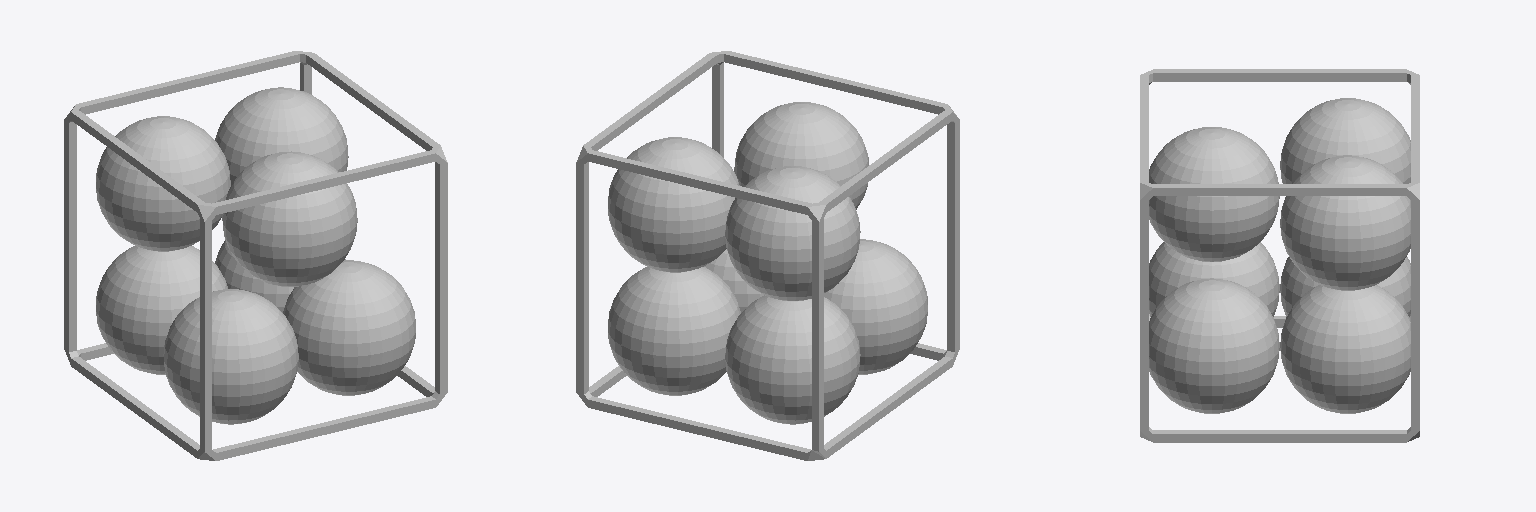
Rendered from stage_6.obj.
3 views of the same model, side by side, from view 1: azimuth 30°, elevation 25°; view 2: azimuth 150°, elevation 25°; view 3: azimuth 270°, elevation 25° (orthographic).
Visible parts, largest first — view 1: Cube_Cube.002, Sphere.005_Sphere.007, Sphere.004_Sphere.006, Sphere.006_Sphere.008, Sphere.002_Sphere.003, Sphere, Sphere.003_Sphere.004, Sphere.001; view 2: Cube_Cube.002, Sphere.001, Sphere, Sphere.003_Sphere.004, Sphere.002_Sphere.003, Sphere.004_Sphere.006, Sphere.006_Sphere.008, Sphere.005_Sphere.007; view 3: Cube_Cube.002, Sphere.005_Sphere.007, Sphere.001, Sphere.003_Sphere.004, Sphere.006_Sphere.008, Sphere.002_Sphere.003, Sphere.004_Sphere.006, Sphere.
Part boxes in pixels (bbox=[...]): Cube_Cube.002: bbox=[64, 51, 447, 460]; Sphere.005_Sphere.007: bbox=[283, 260, 415, 395]; Sphere.004_Sphere.006: bbox=[163, 289, 298, 424]; Sphere.006_Sphere.008: bbox=[222, 151, 357, 286]; Sphere.002_Sphere.003: bbox=[96, 116, 230, 251]; Sphere: bbox=[96, 246, 227, 374]; Sphere.003_Sphere.004: bbox=[215, 87, 348, 184]; Sphere.001: bbox=[215, 240, 345, 312]; Cube_Cube.002: bbox=[576, 51, 959, 460]; Sphere.001: bbox=[608, 267, 740, 395]; Sphere: bbox=[725, 295, 860, 424]; Sphere.003_Sphere.004: bbox=[608, 137, 739, 272]; Sphere.002_Sphere.003: bbox=[725, 166, 860, 300]; Sphere.004_Sphere.006: bbox=[824, 239, 927, 374]; Sphere.006_Sphere.008: bbox=[734, 102, 868, 209]; Sphere.005_Sphere.007: bbox=[704, 249, 763, 312]; Cube_Cube.002: bbox=[1140, 69, 1419, 442]; Sphere.005_Sphere.007: bbox=[1149, 278, 1279, 413]; Sphere.001: bbox=[1280, 285, 1410, 413]; Sphere.003_Sphere.004: bbox=[1280, 155, 1410, 290]; Sphere.006_Sphere.008: bbox=[1149, 127, 1279, 261]; Sphere.002_Sphere.003: bbox=[1280, 98, 1410, 183]; Sphere.004_Sphere.006: bbox=[1149, 242, 1279, 316]; Sphere: bbox=[1280, 257, 1410, 316].
Bounding box in the file's own units: 1.03 × 1.03 × 1.03.